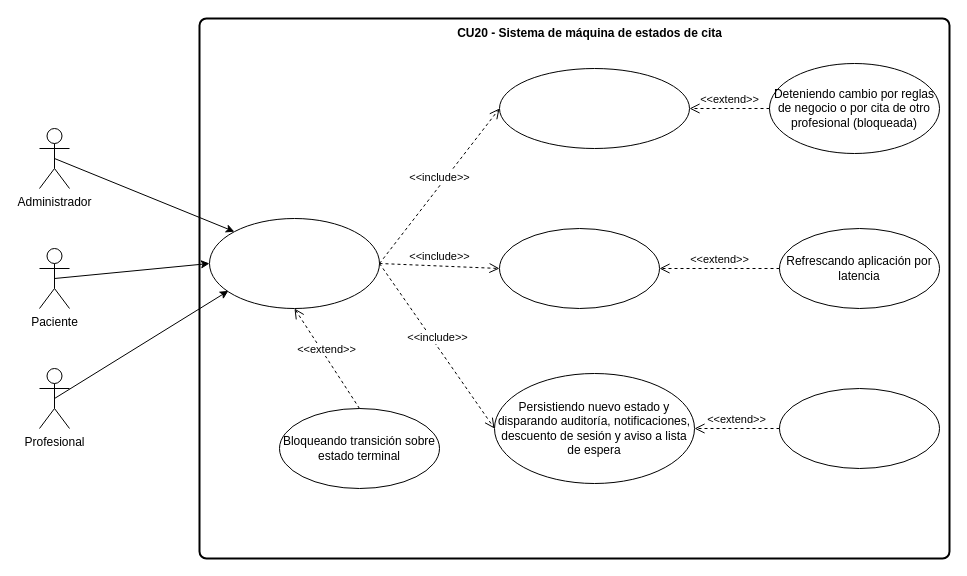
Some shapes in this 967 by 576 pixel diagram are drawn without their labels. Each missing label, with the centre of its shape:
"Ejecutando acción de cambio de estado sobre cita propia" belongs at pixel 294 263.
"Emitiendo alerta crítica por fallo de persistencia y revirtiendo" belongs at pixel 859 428.
"Observando actualización visual del estado en tablero" belongs at pixel 579 268.
"Verificando titularidad y evaluando máquina de estados" belongs at pixel 594 108.
